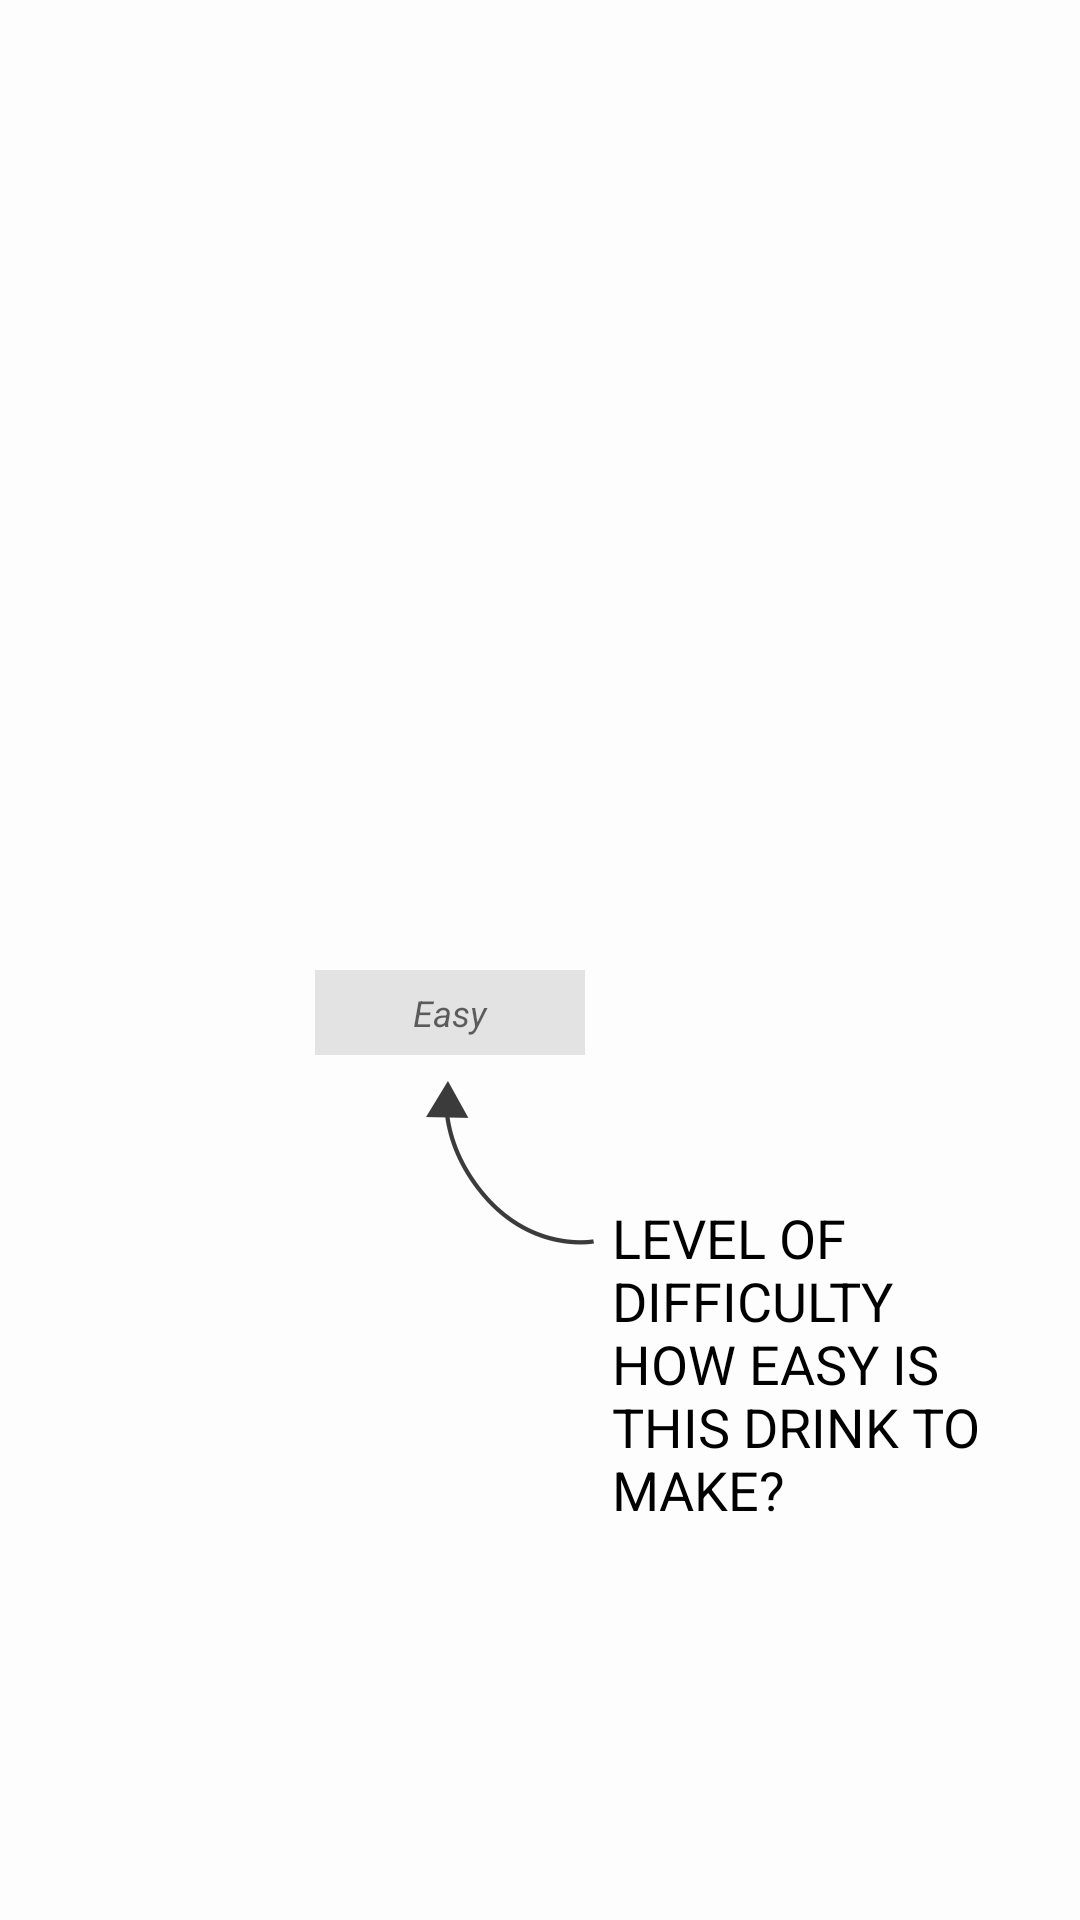

Point at icon controls on the screen. Image size 1080×1920, points as (x=x, y=y).
arrow up: (x=510, y=1163)
